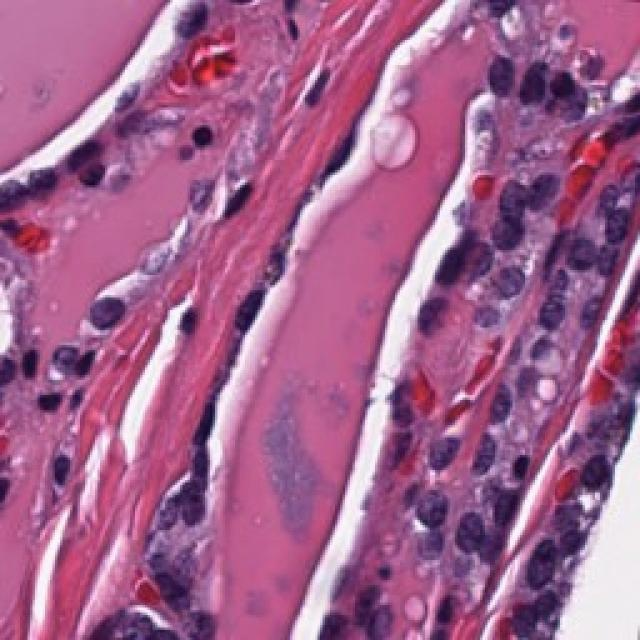normal: (220, 260, 287, 346), (462, 51, 534, 115), (562, 443, 634, 505), (399, 474, 453, 549), (487, 166, 545, 233), (429, 501, 491, 561), (472, 262, 537, 316), (414, 411, 461, 481), (452, 429, 505, 488), (468, 362, 516, 427), (598, 187, 640, 247), (547, 226, 597, 275)
